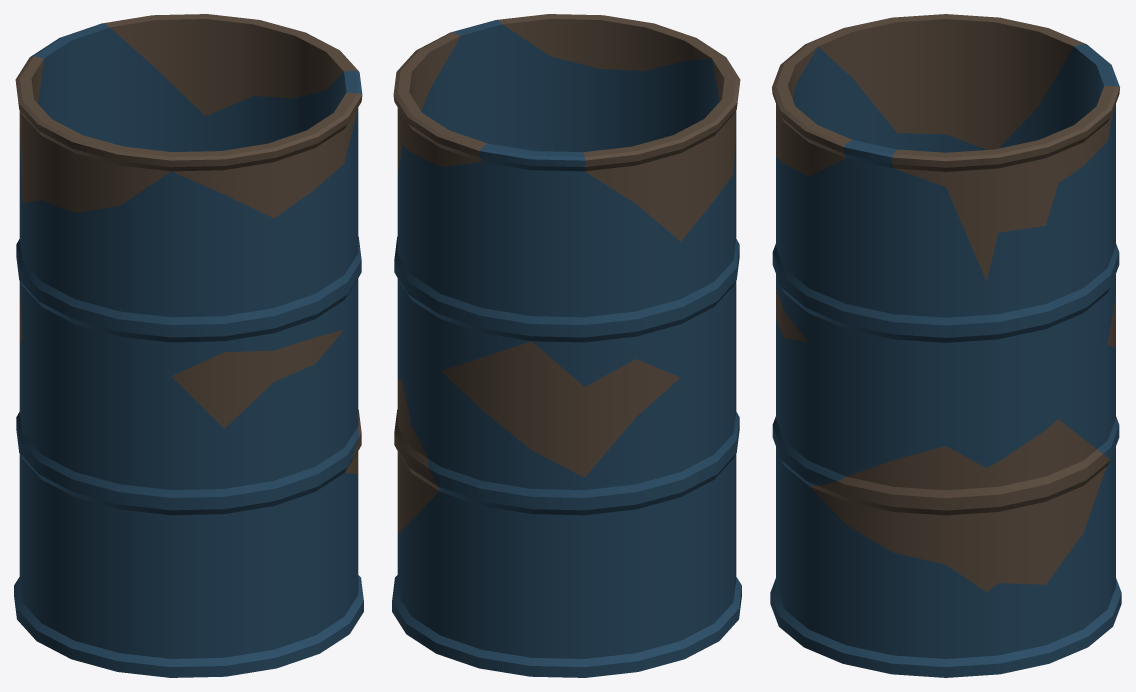
Rendered from barrel_lev1.glb.
3 views of the same model, side by side, from view 1: azimuth 30°, elevation 25°; view 2: azimuth 150°, elevation 25°; view 3: azimuth 270°, elevation 25° (orthographic).
Visible parts, largest first — view 1: barrel_lev1; view 2: barrel_lev1; view 3: barrel_lev1.
Part boxes in pixels (box(x1,y1,x2,y2)): barrel_lev1: box(14, 14, 363, 677); barrel_lev1: box(392, 14, 741, 677); barrel_lev1: box(770, 14, 1121, 677).
Size of the model in its own units: 1.46 by 2.37 by 1.46.
Materials: 1 (1 with a texture image).
